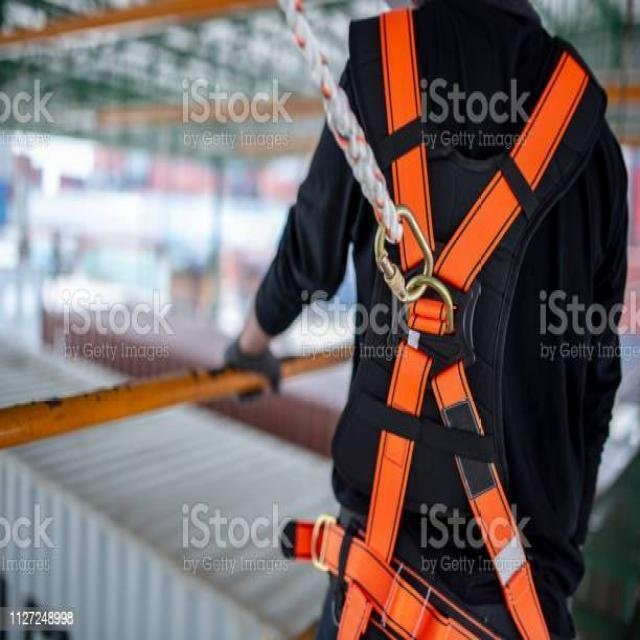Arnes_seguridad: (308, 0, 640, 640)
